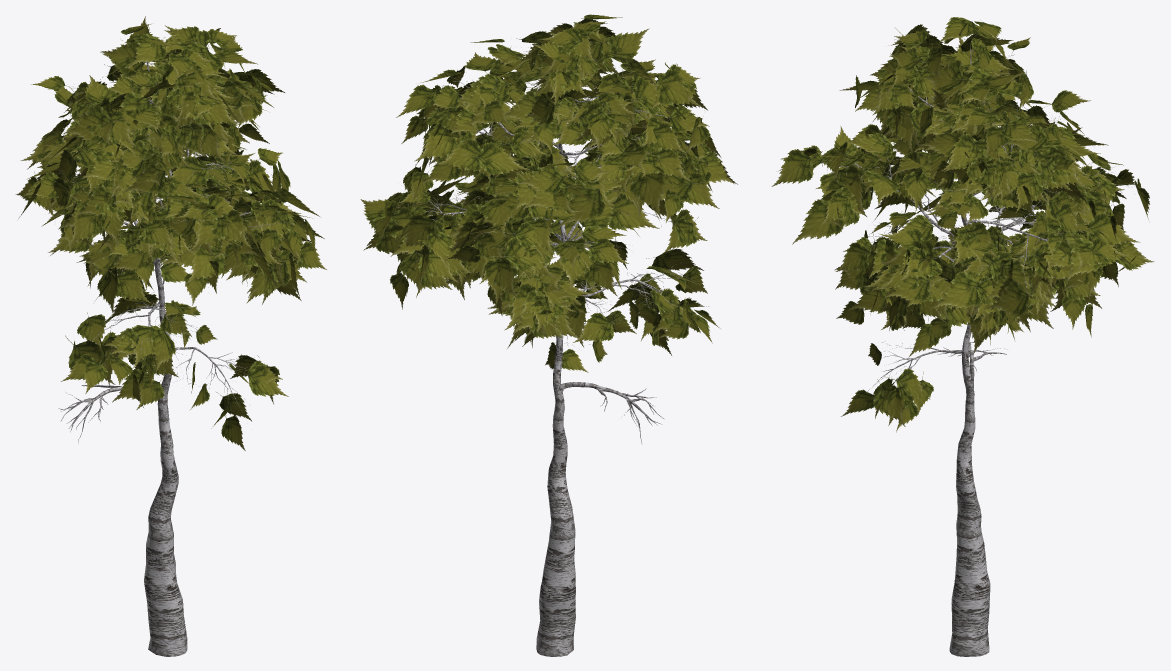
The model's file is tree_aspen_lod2.glb.
3 renders of one model, left to right at view 1: azimuth 30°, elevation 25°; view 2: azimuth 150°, elevation 25°; view 3: azimuth 270°, elevation 25°, orthographic.
Parts seen in each view (by area): view 1: aspen2_LOD2; view 2: aspen2_LOD2; view 3: aspen2_LOD2.
Boxes of the visible parts, box(x1,y1,x2,y2) form: aspen2_LOD2: box(15, 16, 326, 656); aspen2_LOD2: box(360, 14, 737, 656); aspen2_LOD2: box(771, 17, 1154, 656).
Bounding box in the file's own units: 3.85 × 7.4 × 4.21.
Materials: 2 (2 with a texture image).
